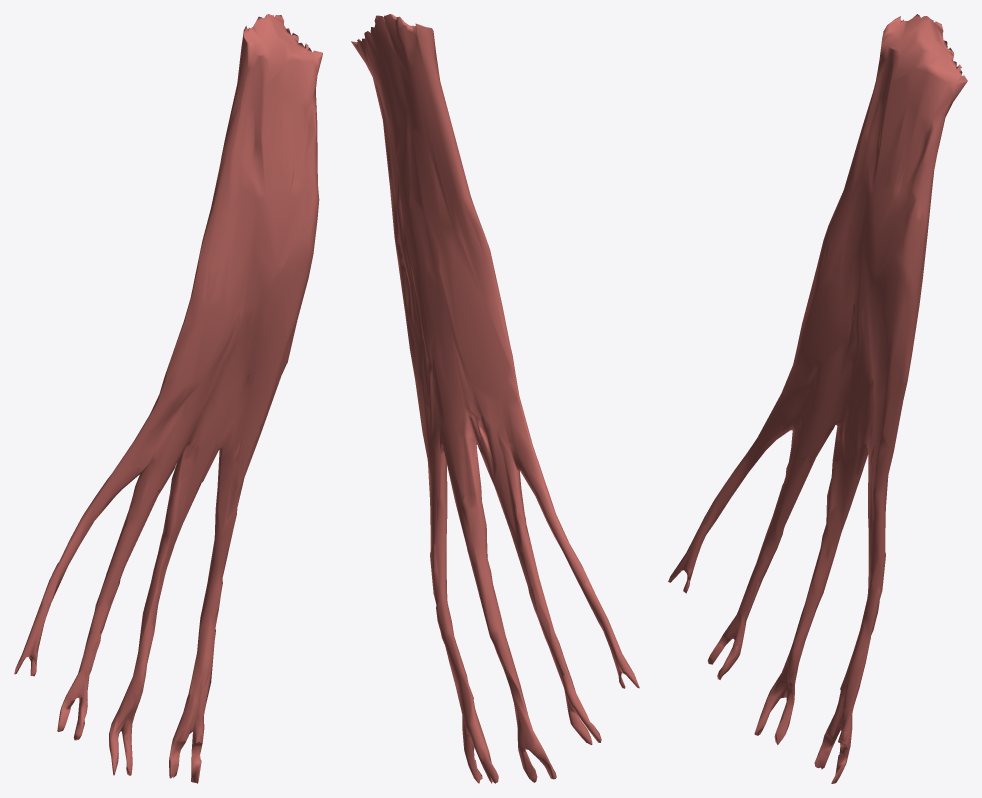
3 views of the same model, side by side, from view 1: azimuth 30°, elevation 25°; view 2: azimuth 150°, elevation 25°; view 3: azimuth 330°, elevation 25° (orthographic). The views are drawn at different scales.
Visible parts, largest first — view 1: 右侧趾短屈肌; view 2: 右侧趾短屈肌; view 3: 右侧趾短屈肌.
Part boxes in pixels (left/top/right/bottom): 右侧趾短屈肌: left=14, top=14, right=322, bottom=783; 右侧趾短屈肌: left=351, top=14, right=639, bottom=783; 右侧趾短屈肌: left=668, top=14, right=967, bottom=783.
Bounding box in the file's own units: 0.1156 × 0.277 × 0.0295.
